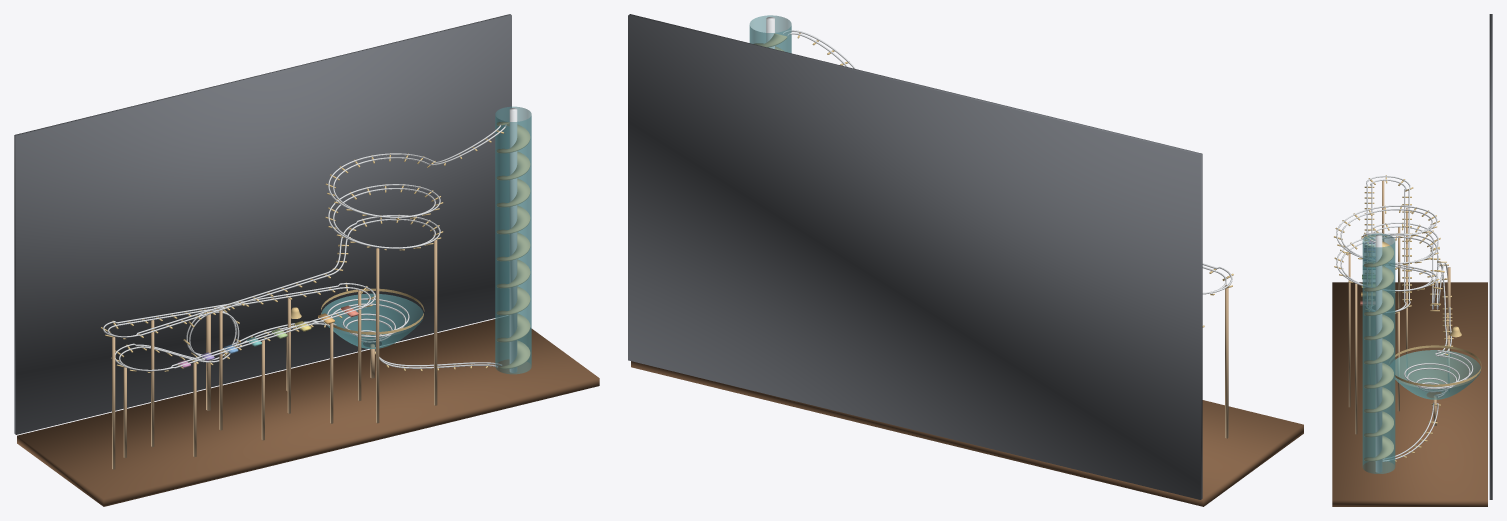
File: marble-track.glb
3 views of the same model, side by side, from view 1: azimuth 30°, elevation 25°; view 2: azimuth 150°, elevation 25°; view 3: azimuth 270°, elevation 25° (orthographic). The views are drawn at different scales.
Visible parts, largest first — view 1: pegboard, base, lift-tube, rails, posts, lift-thread, funnel, lift-rod, ties; view 2: pegboard, base, lift-tube; view 3: base, lift-tube, rails, funnel, lift-thread, posts, pegboard, ties, lift-rod, funnel-rim, stands.
Boxes of the visible parts, bbox=[...] form: pegboard: bbox=[14, 14, 511, 434]; base: bbox=[17, 316, 599, 506]; lift-tube: bbox=[495, 106, 531, 374]; rails: bbox=[103, 124, 506, 371]; posts: bbox=[112, 237, 437, 469]; lift-thread: bbox=[496, 121, 530, 369]; funnel: bbox=[321, 293, 423, 348]; lift-rod: bbox=[509, 108, 517, 372]; ties: bbox=[101, 130, 503, 372]; pegboard: bbox=[628, 14, 1202, 499]; base: bbox=[631, 361, 1303, 506]; lift-tube: bbox=[749, 15, 791, 53]; base: bbox=[1332, 282, 1487, 506]; lift-tube: bbox=[1362, 233, 1395, 473]; rails: bbox=[1336, 176, 1473, 461]; funnel: bbox=[1395, 350, 1480, 399]; lift-thread: bbox=[1364, 241, 1393, 461]; posts: bbox=[1348, 180, 1449, 434]; pegboard: bbox=[1489, 14, 1492, 499]; ties: bbox=[1334, 175, 1453, 461]; lift-rod: bbox=[1375, 234, 1382, 472]; funnel-rim: bbox=[1389, 345, 1481, 386]; stands: bbox=[1433, 267, 1450, 425].
Bounding box in the file's own units: 3.3 × 1.95 × 1.03.
